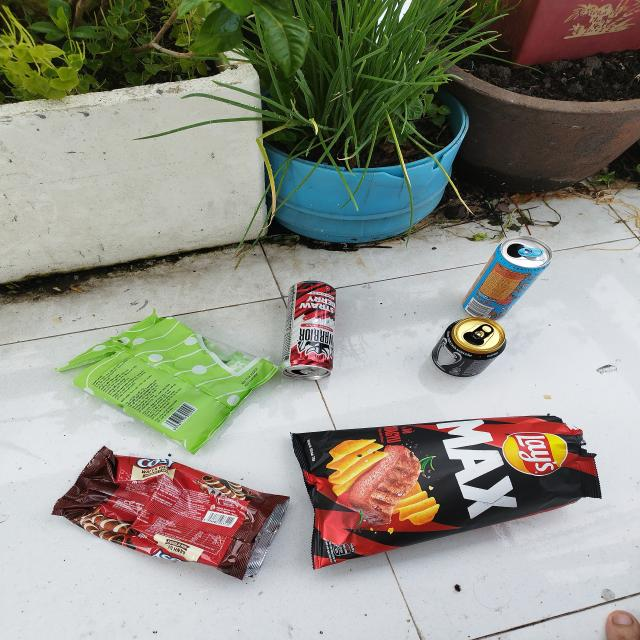can: (462, 235, 553, 321), (281, 280, 337, 380), (431, 316, 507, 378)
snack package: (290, 413, 602, 570), (54, 308, 281, 455), (51, 445, 291, 581)
